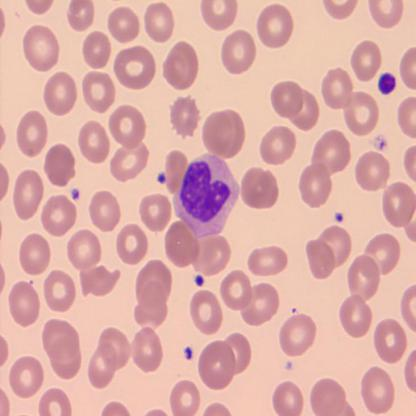Metamyelocyte: (171, 152, 242, 240)
